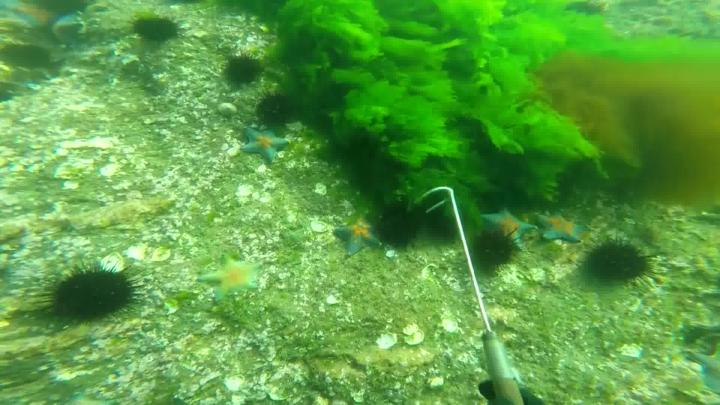echinus: (32, 257, 142, 332), (584, 236, 663, 291), (470, 226, 530, 267), (376, 202, 417, 251), (223, 51, 267, 86), (259, 94, 295, 128), (131, 17, 183, 40)
scallop: (403, 323, 427, 351), (103, 252, 126, 273), (151, 248, 173, 265), (378, 333, 397, 352), (441, 317, 459, 336), (98, 164, 119, 178), (312, 219, 329, 233), (316, 184, 329, 197)
starfish: (200, 254, 262, 307), (244, 123, 290, 163), (538, 205, 587, 242), (335, 218, 381, 255), (482, 207, 522, 247)
